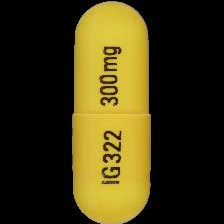69097-814: (0, 0, 224, 224)
